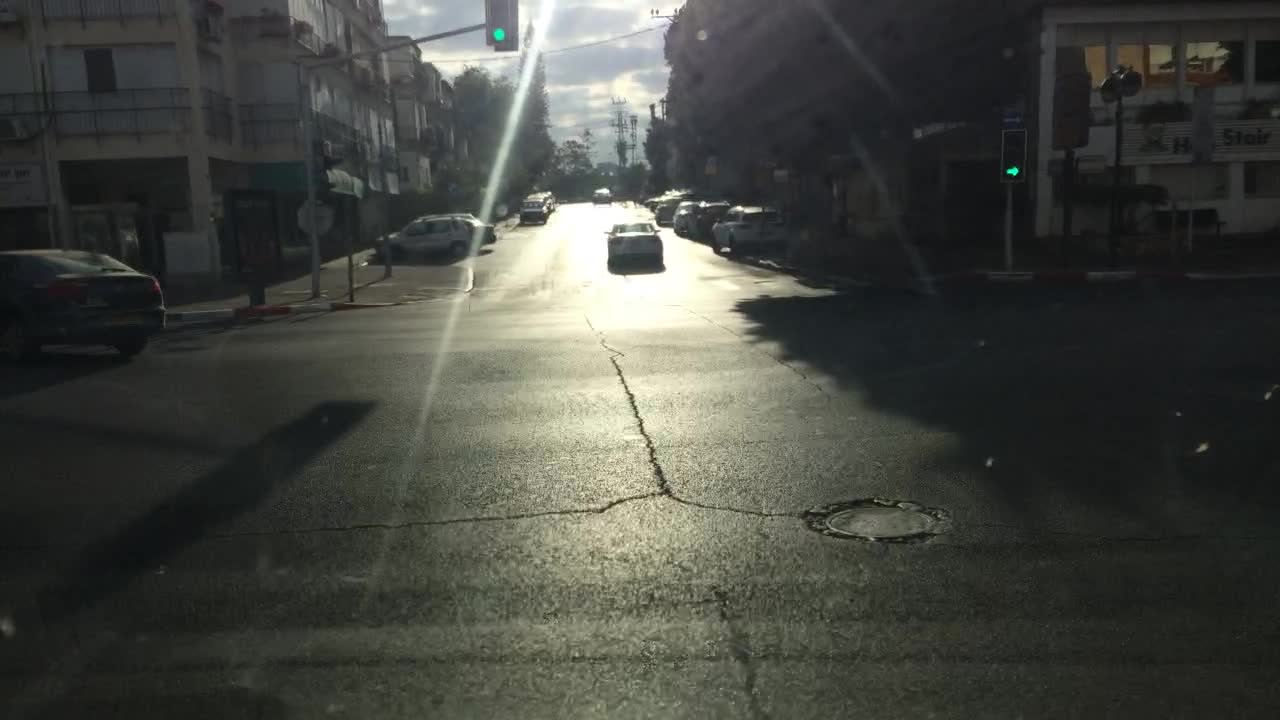car: (1, 248, 169, 368), (374, 213, 492, 259), (712, 203, 788, 262), (605, 222, 666, 268), (448, 212, 497, 249), (692, 199, 726, 241), (655, 196, 681, 226), (673, 200, 696, 232), (517, 202, 547, 222), (527, 193, 549, 212), (597, 184, 614, 202), (645, 196, 666, 209), (542, 191, 557, 207)
traffic light: (485, 0, 516, 48), (313, 154, 342, 196), (1002, 130, 1024, 180)
traffic sign: (1053, 74, 1094, 144), (297, 196, 336, 237), (998, 113, 1025, 127)
